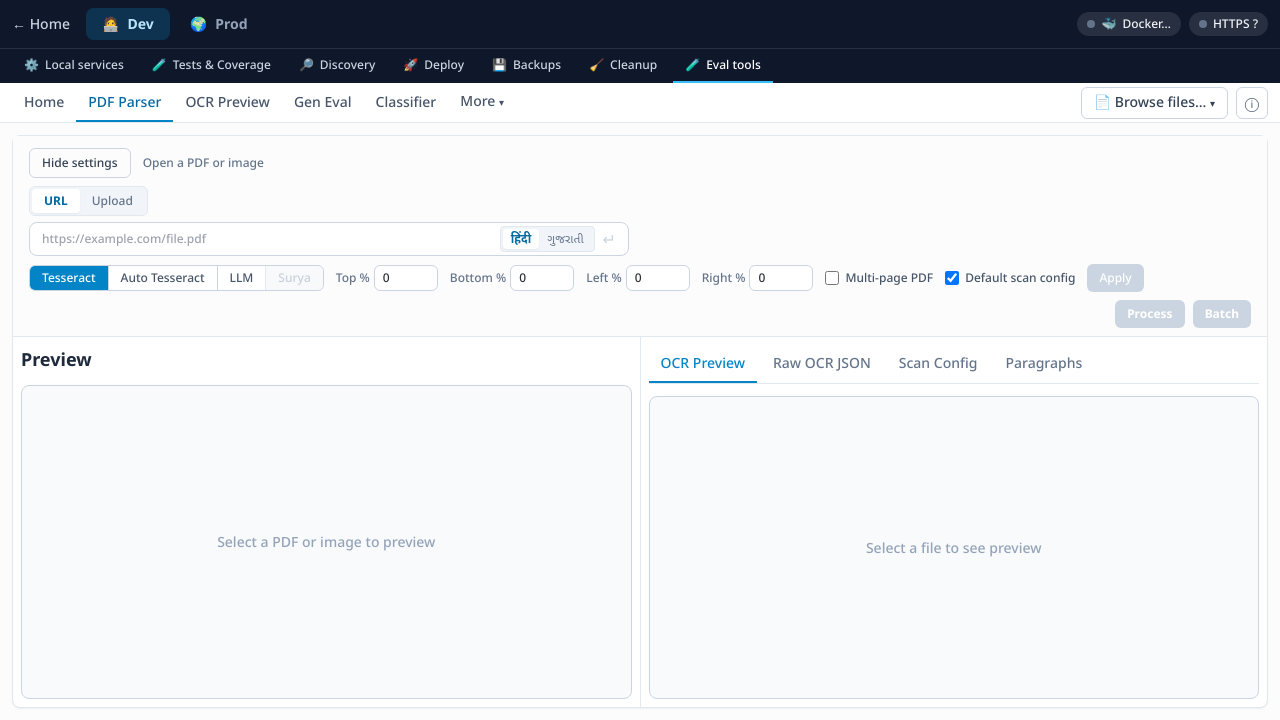
Test: the paths popover shows the paths loaded from the server
This screenshot has width=1280, height=720.
expect the element with test id "eval-bar" is shown: met, box x1=0 y1=83 x2=1279 y2=123
Click the button named "Paths" at (1252, 102), box x1=1236 y1=86 x2=1268 y2=118
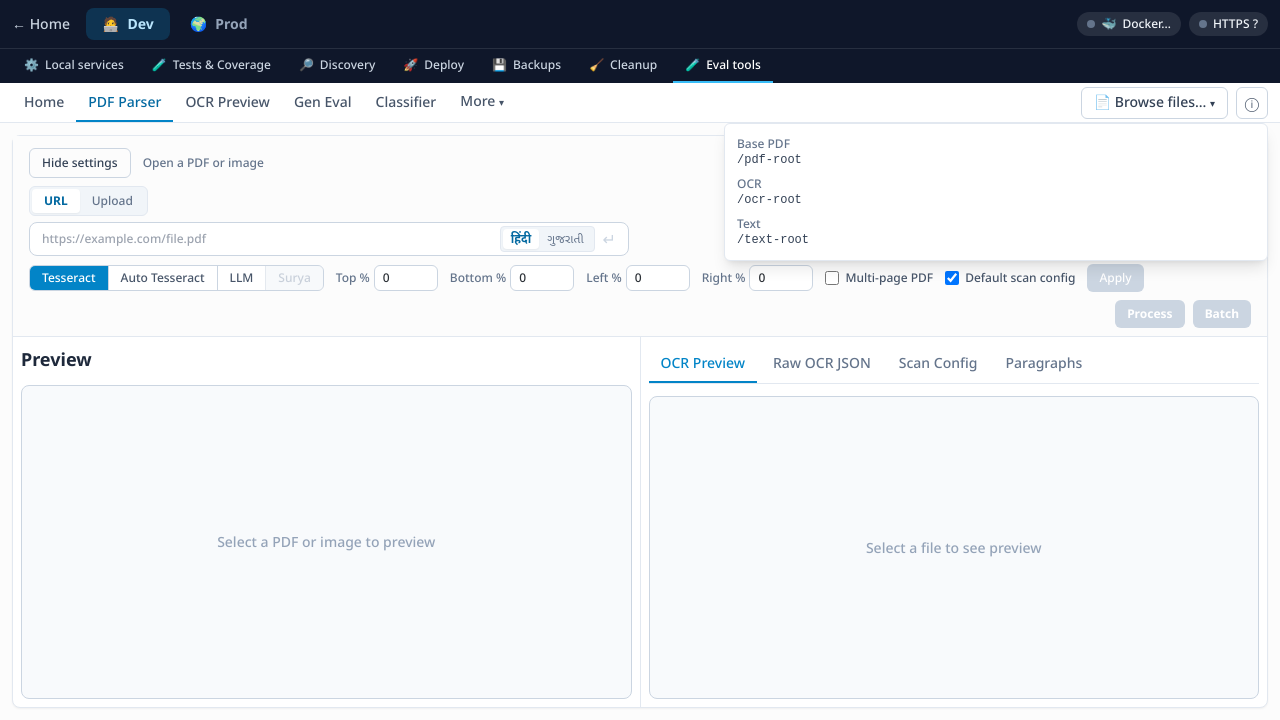
expect the text "/pdf-root" is shown: met, box x1=737 y1=152 x2=802 y2=166
